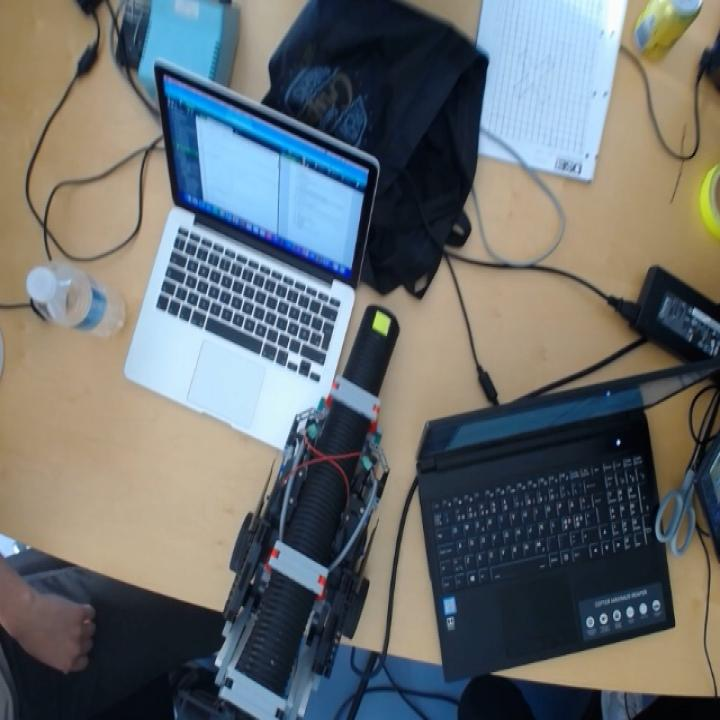robot: (216, 306, 399, 720)
robot-front: (348, 306, 398, 379)
